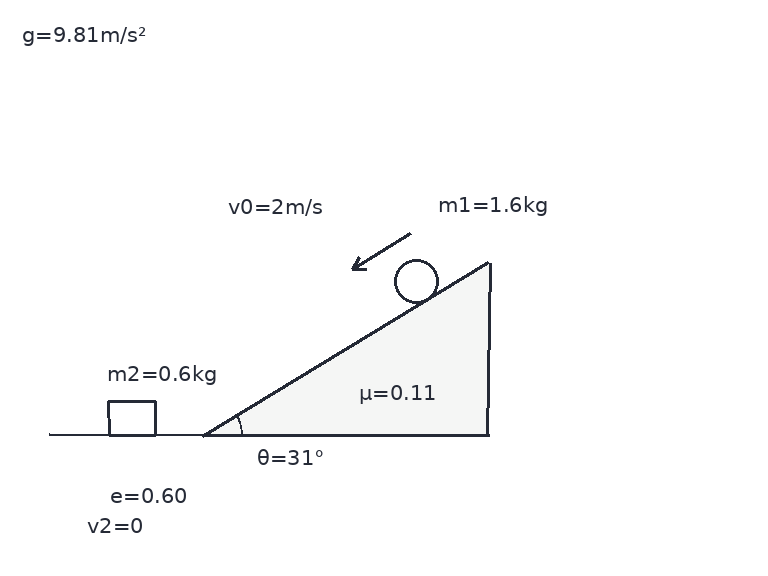ball: (392, 257, 440, 305)
block: (107, 399, 157, 437)
ramp: (200, 261, 490, 437)
